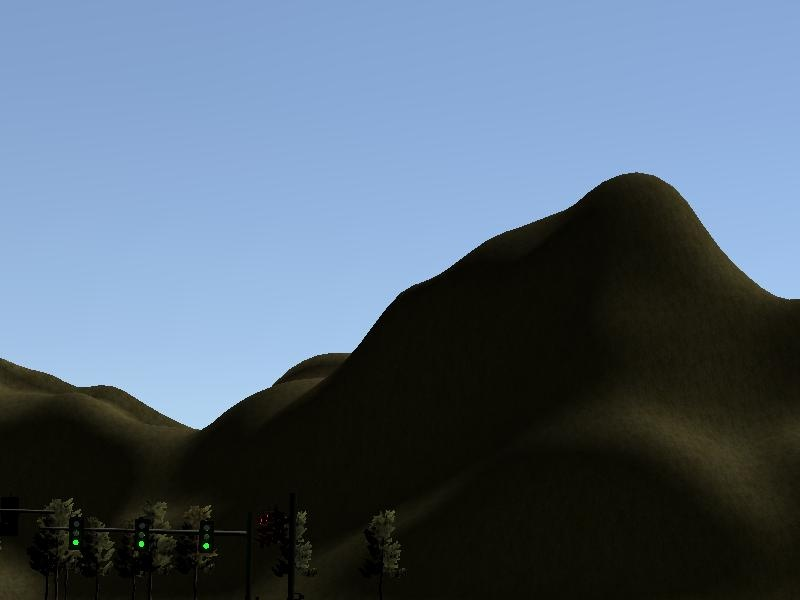GREEN: (66, 514, 86, 551), (196, 524, 216, 561), (130, 518, 150, 552)
